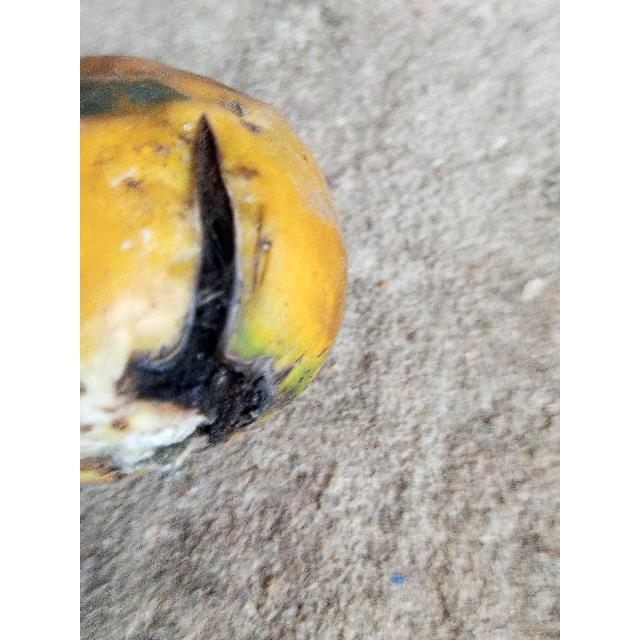damaged: (80, 54, 349, 489)
